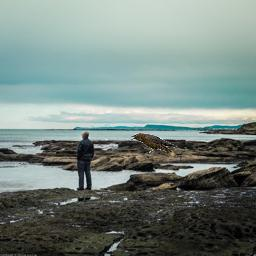Crow: (129, 132, 179, 156)
